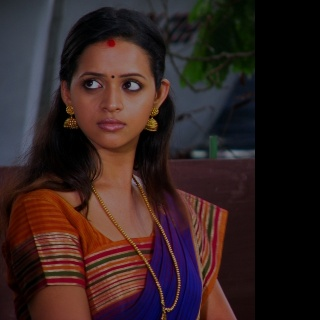without_mask: (69, 39, 158, 149)
